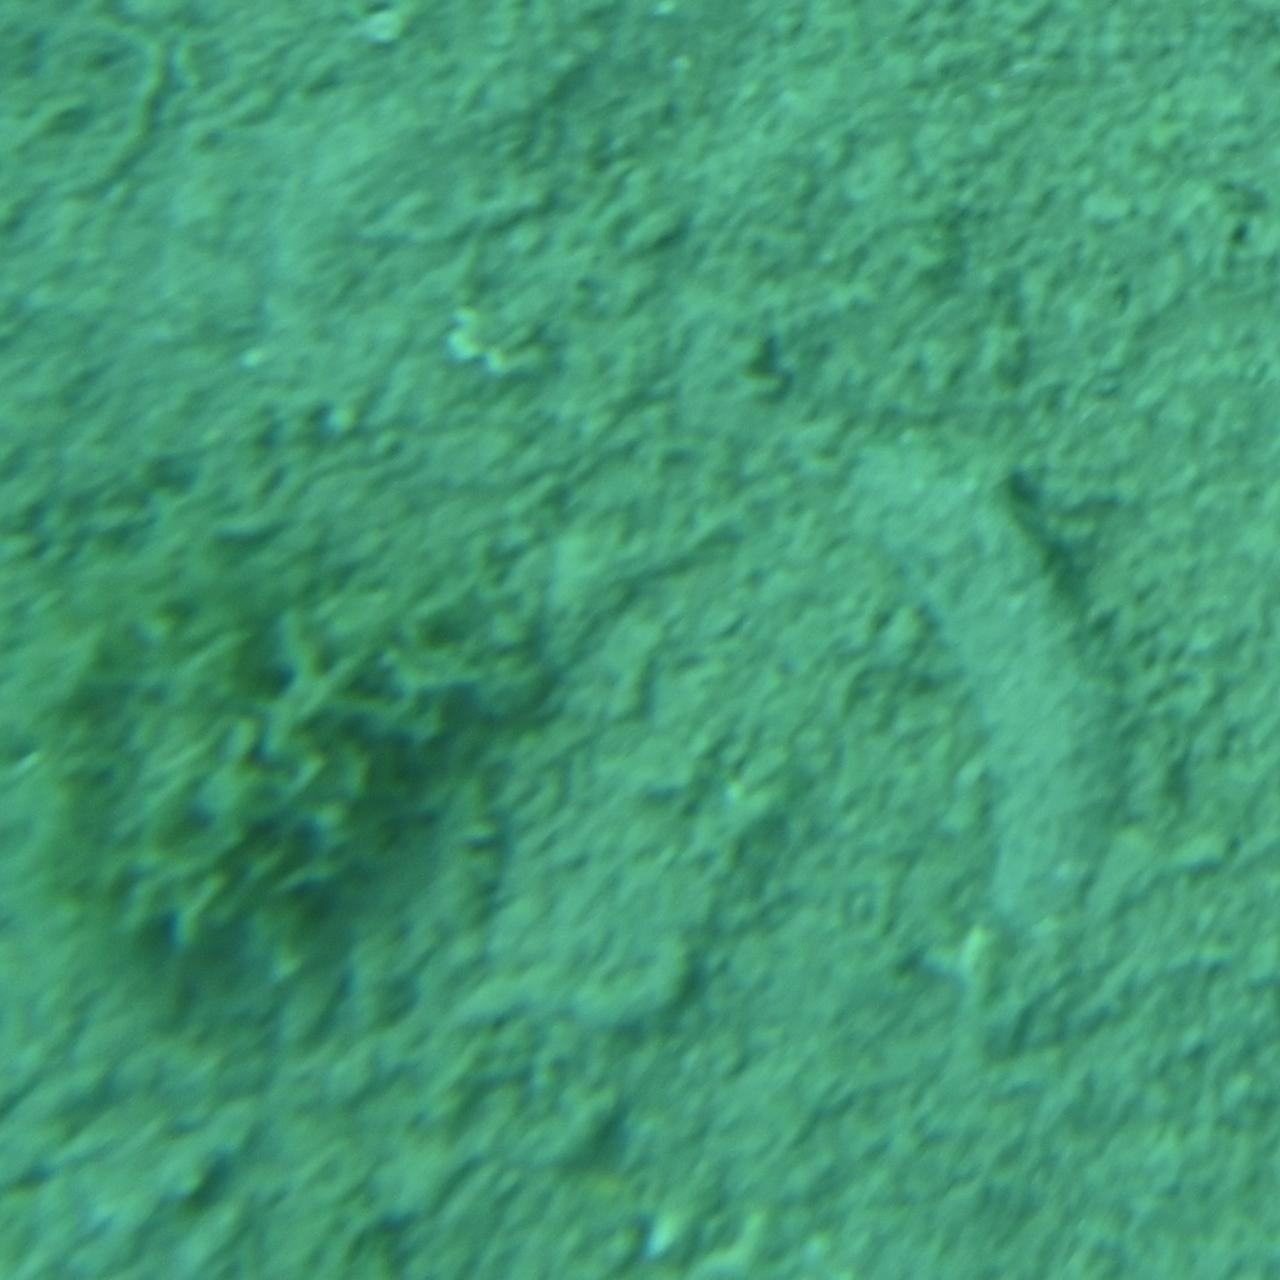Holothuria tubulosa: (837, 413, 1125, 1065)
Phaeophyceae -cfr Cystoseira-: (48, 516, 552, 980)
